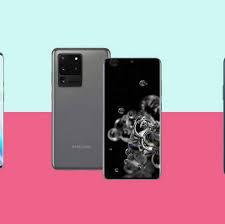Smartphone: (48, 44, 109, 177), (104, 56, 166, 177)
